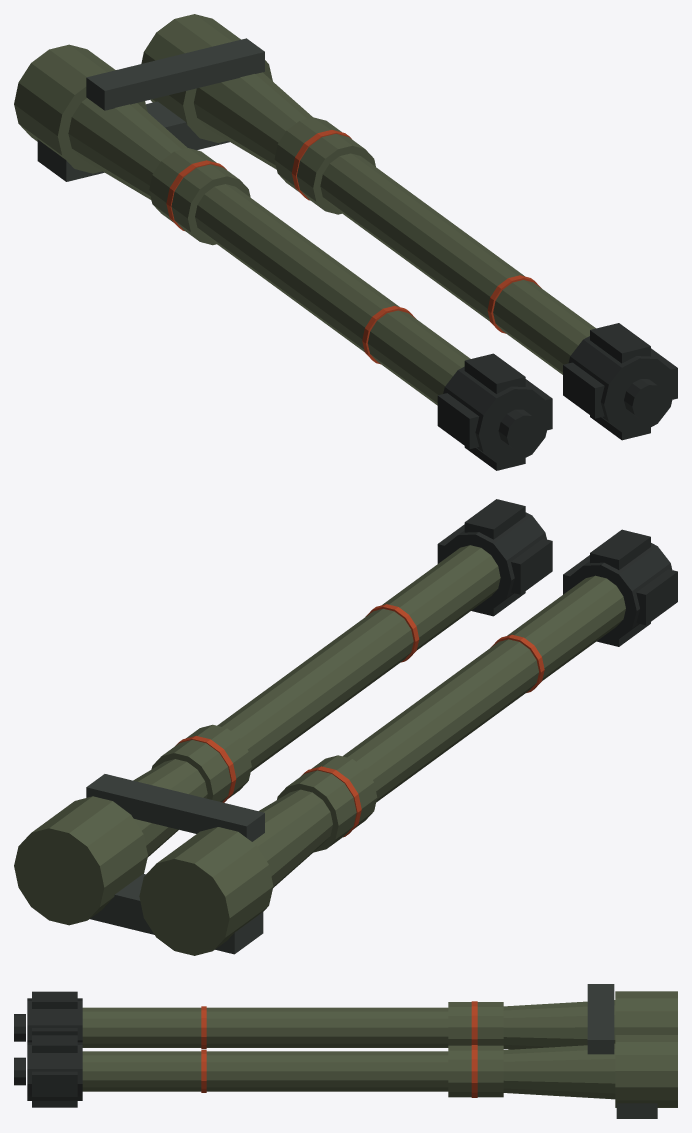
Rendered from Bastion_HT77_TwinCannons.obj.
3 renders of one model, top to bottom at view 1: azimuth 30°, elevation 25°; view 2: azimuth 150°, elevation 25°; view 3: azimuth 270°, elevation 25°, orthographic. The views are drawn at different scales.
Visible parts, largest first — view 1: Bastion_HT77_TwinCannons; view 2: Bastion_HT77_TwinCannons; view 3: Bastion_HT77_TwinCannons.
Boxes of the visible parts, box(x1,y1,x2,y2) form: Bastion_HT77_TwinCannons: box(14, 14, 677, 470); Bastion_HT77_TwinCannons: box(14, 499, 677, 955); Bastion_HT77_TwinCannons: box(14, 984, 677, 1118).
Bounding box in the file's own units: 1.48 × 0.665 × 5.52.
1 material, 1 textured.
